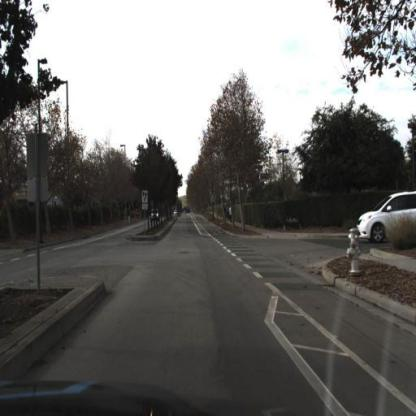car: (354, 191, 416, 248), (148, 207, 164, 226), (149, 207, 162, 222)
pedestrian: (226, 205, 234, 225), (229, 206, 234, 223)
